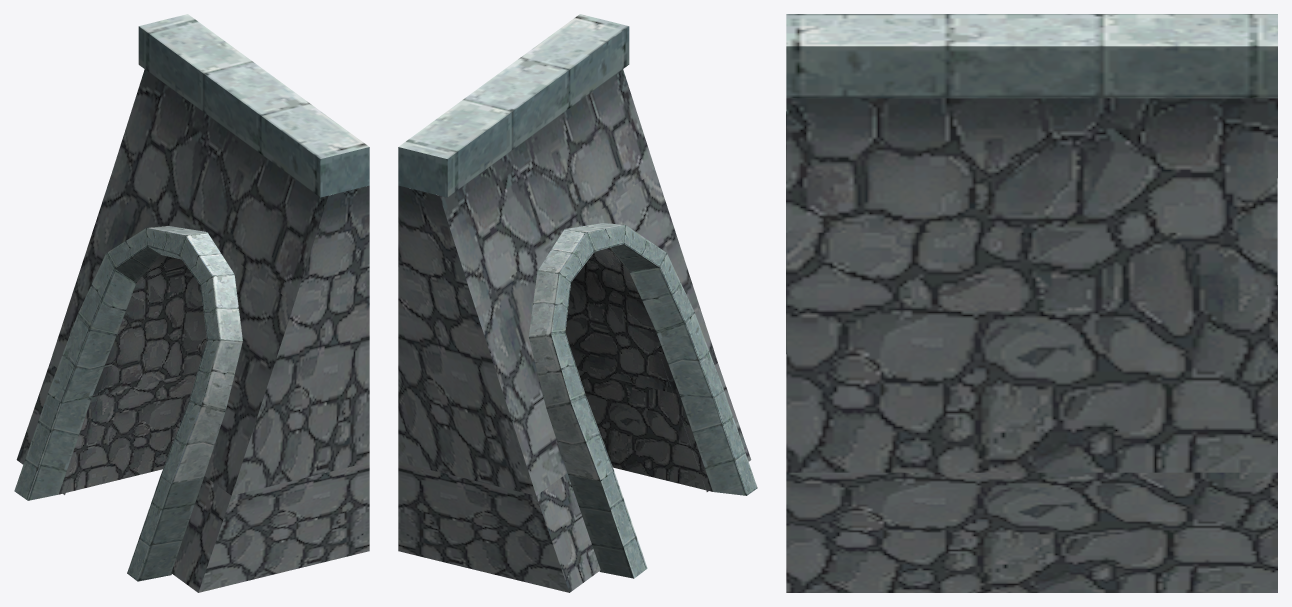
The picture shows the model from 3 angles, left to right: view 1: azimuth 30°, elevation 25°; view 2: azimuth 150°, elevation 25°; view 3: azimuth 270°, elevation 25°; orthographic projection. The views are drawn at different scales.
Visible parts, largest first — view 1: geom_node_0; view 2: geom_node_0; view 3: geom_node_0.
Boxes of the visible parts, x1=… form: geom_node_0: x1=14, y1=14, x2=369, y2=592; geom_node_0: x1=398, y1=14, x2=757, y2=592; geom_node_0: x1=786, y1=14, x2=1277, y2=592.
Size of the model in its own units: 2.37 by 4.5 by 3.65.
1 material, 1 textured.
